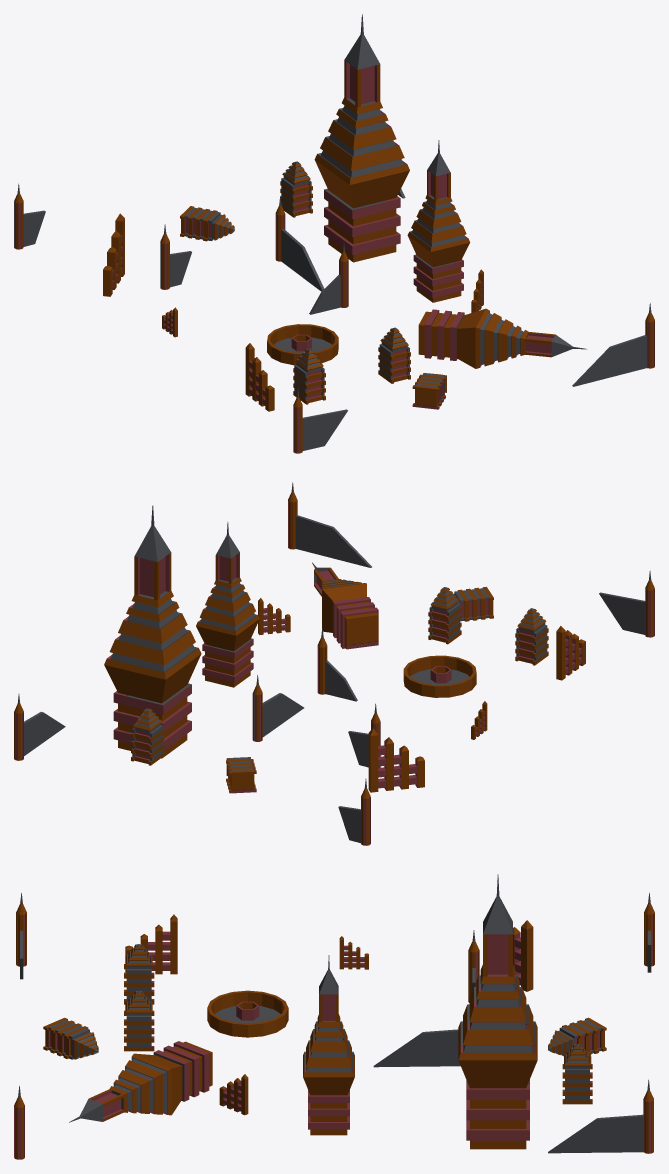
The model's file is CidadeCampinaExemplo.fbx.
3 views of the same model, one above another, from view 1: azimuth 30°, elevation 25°; view 2: azimuth 150°, elevation 25°; view 3: azimuth 270°, elevation 25° (orthographic). The views are drawn at different scales.
Parts seen in each view (by area): view 1: Cube.009; view 2: Cube.009; view 3: Cube.009.
Boxes of the visible parts, x1,y1,x2,y2 form: Cube.009: [14, 14, 654, 453]; Cube.009: [14, 482, 654, 845]; Cube.009: [14, 874, 654, 1159].
Size of the model in its own units: 17980 by 11163 by 24655.
1 material, 1 textured.
